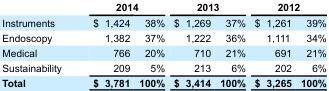table: (1, 1, 325, 88)
table column: (1, 1, 76, 88), (76, 1, 133, 88), (168, 1, 214, 88), (249, 1, 295, 88), (133, 1, 168, 88), (214, 1, 249, 88), (295, 1, 325, 88)
table column header: (1, 1, 325, 29)
table row: (1, 59, 325, 75), (1, 14, 325, 29), (1, 29, 325, 44), (1, 44, 325, 59), (1, 1, 325, 14), (1, 75, 325, 88)
table spanning cell: (1, 1, 76, 29), (76, 1, 168, 14), (168, 1, 249, 14), (249, 1, 325, 14)
